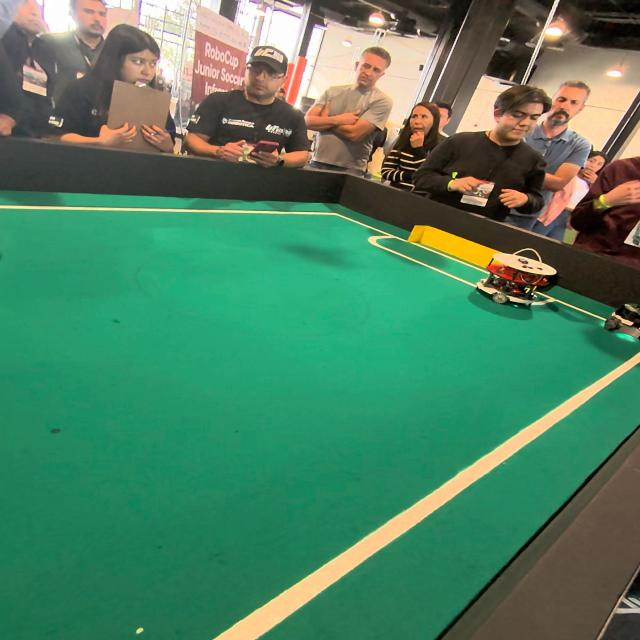Robot: (477, 247, 560, 315), (602, 280, 640, 353)
